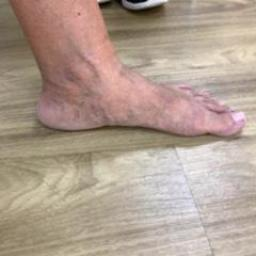Medial View -Left Foot-: (16, 19, 253, 155)
